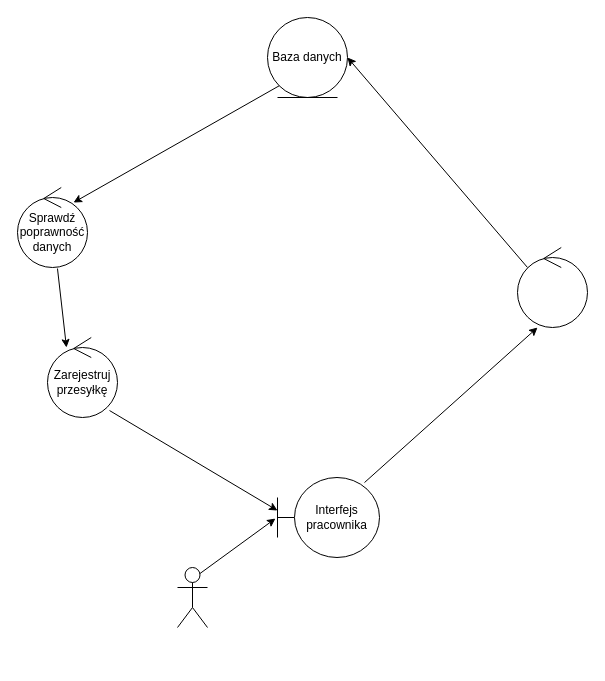
The diagram is 605 pixels wide and 681 high, and some of its shapes have lost their labels. Here are the shapes that lost their labels. From the top down, the centre of each, then its label:
At (x=552, y=287): "Loguj".
At (x=192, y=597): "Pracownik".
